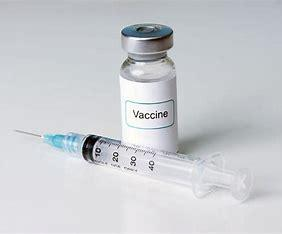Syringe: (9, 125, 262, 206), (116, 18, 184, 158)
